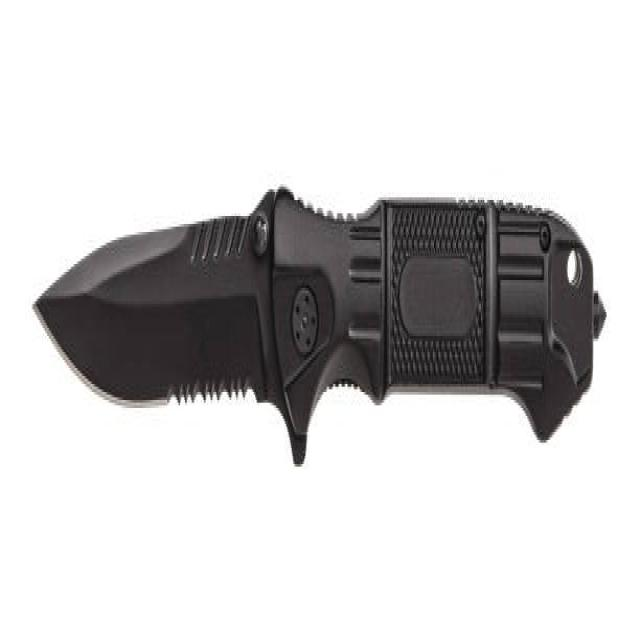knife: (29, 176, 611, 482)
